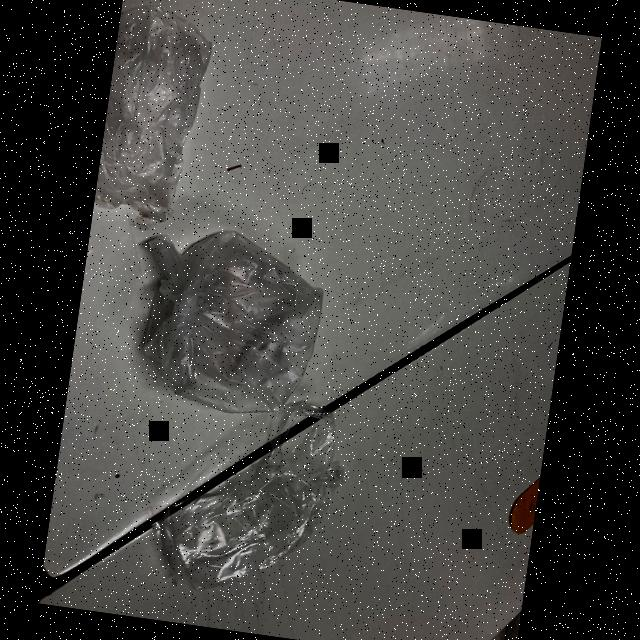plastic_bag: (144, 384, 368, 610), (124, 218, 332, 422)
scrap_plastic: (92, 0, 226, 234)
